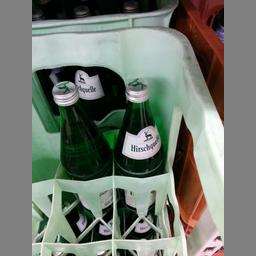water: (48, 77, 115, 208), (112, 76, 167, 234)
